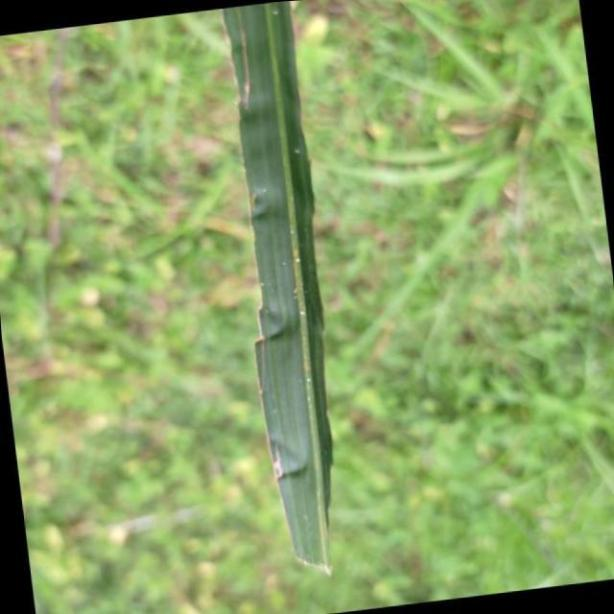Boron: (225, 4, 339, 572)
